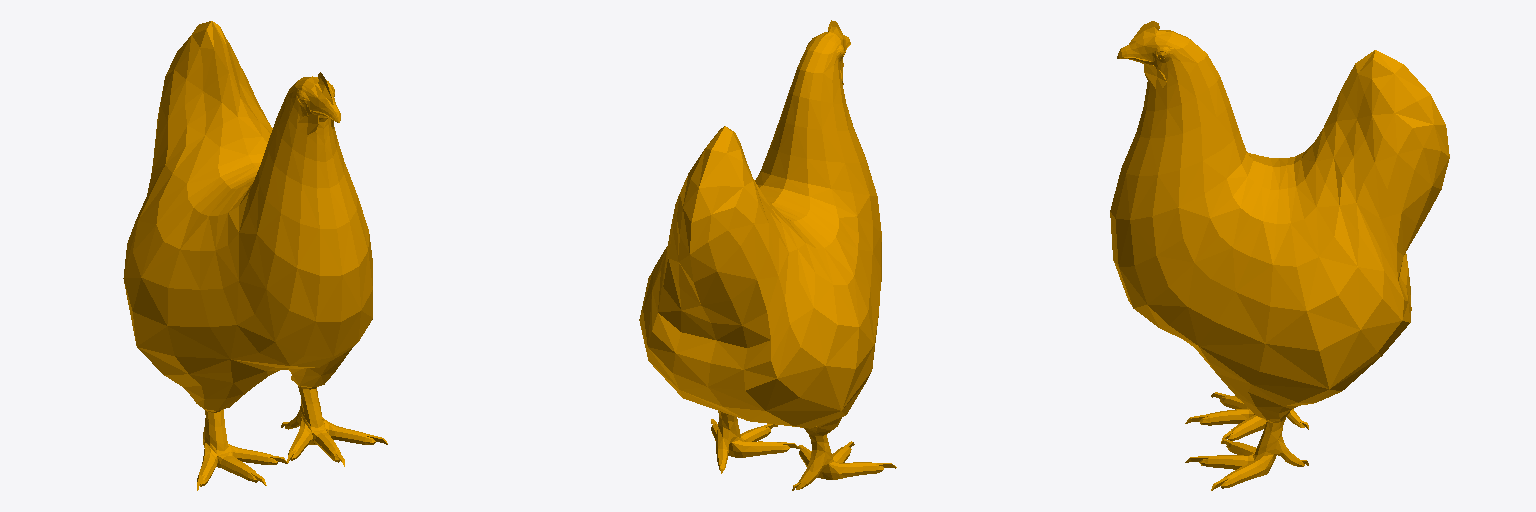
robot.urdf — none:
<robot name="none">
       <link name="none">
           <visual>
               <origin rpy="1.57 0 0" xyz="0 0 0" />
               <geometry>
                   <mesh filename="chicken.obj" />
               </geometry>
           </visual>
          <collision>
              <geometry>
                  <box size="0.532013 1.000000 0.720434" />
              </geometry>
          </collision>

          <inertial>
            <mass value="0.0" />
            <inertia ixx="0.0" ixy="0.0" ixz="0.0" iyy="0.0" iyz="0.0" izz="0.0" />
          </inertial>
      </link>
  </robot>

--- What the picture shows (computed from the rendered views, not written in the file) ---
Views: 3 orthographic renders of the robot side by side, from view 1: azimuth 30°, elevation 25°; view 2: azimuth 150°, elevation 25°; view 3: azimuth 270°, elevation 25°.
Robot: none — 1 links, 0 joints (none); root link none; default pose: every joint at zero.
Links seen in each view (by area): view 1: none; view 2: none; view 3: none.
Link boxes in pixels (<box>): none: <box>123,21,387,490</box>; none: <box>639,20,896,490</box>; none: <box>1110,21,1449,490</box>.
Bounding box of the posed robot: 0.532 × 0.7205 × 1 m (x, y, z).
1 mesh visuals loaded from 1 distinct referenced files (1 OBJ).